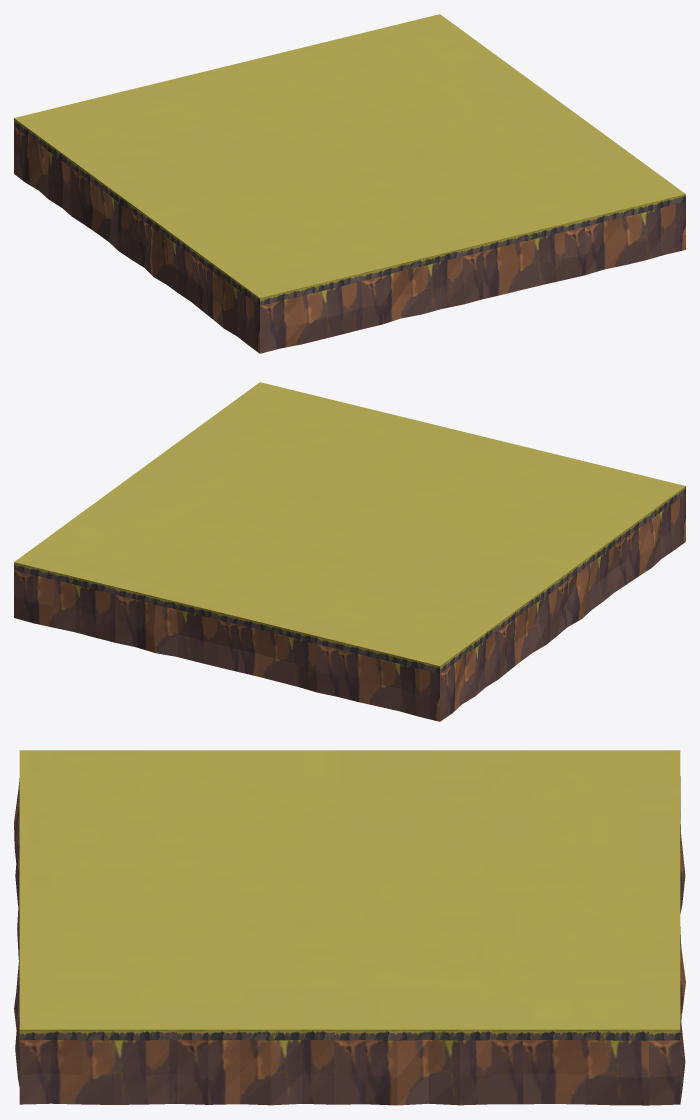
Rendered from SM_RC_Terrain_Plateau_32x32x4.gltf.
3 views of the same model, one above another, from view 1: azimuth 30°, elevation 25°; view 2: azimuth 150°, elevation 25°; view 3: azimuth 270°, elevation 25° (orthographic). The views are drawn at different scales.
Visible parts, largest first — view 1: SM_RC_Terrain_Plateau_32x32x4; view 2: SM_RC_Terrain_Plateau_32x32x4; view 3: SM_RC_Terrain_Plateau_32x32x4.
Part boxes in pixels (x1=…): SM_RC_Terrain_Plateau_32x32x4: x1=14, y1=14, x2=685, y2=353; SM_RC_Terrain_Plateau_32x32x4: x1=14, y1=382, x2=685, y2=721; SM_RC_Terrain_Plateau_32x32x4: x1=14, y1=750, x2=685, y2=1105.
Bounding box in the file's own units: 32.5 × 4 × 32.54.
1 material, 1 textured.
